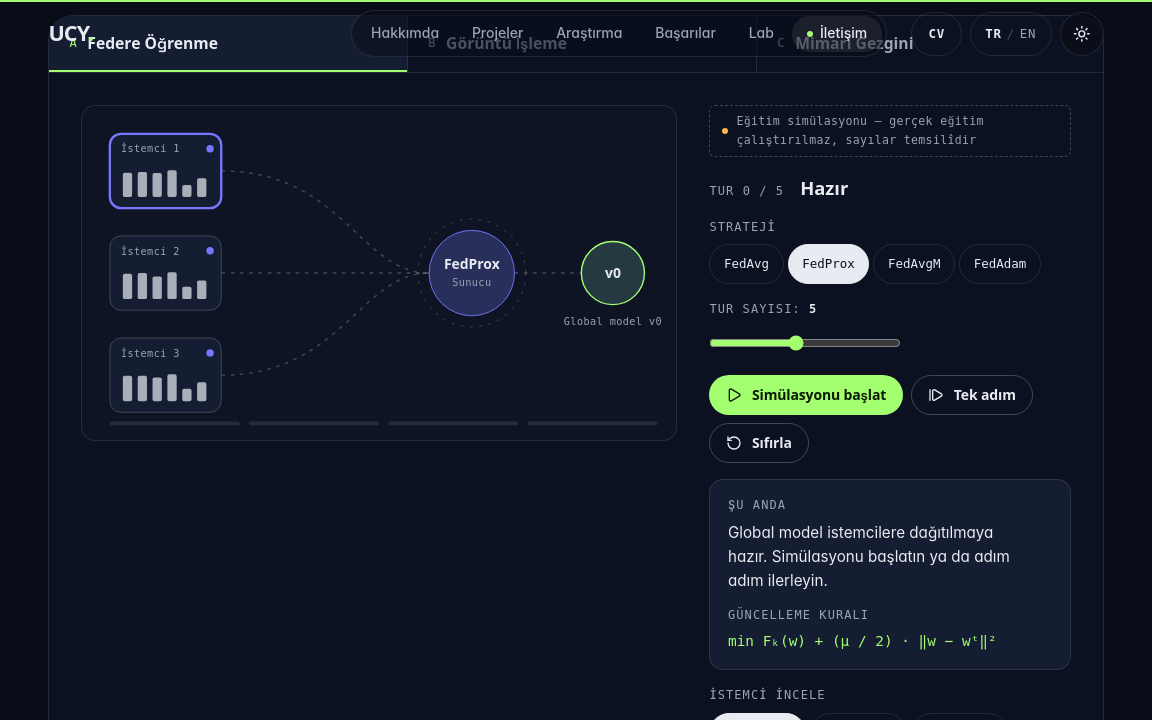
it: home page › runs the federated-learning demo one phase per step
The image size is (1152, 720).
(page scrolled)
Click the button with test id "fl-step".
click(972, 395)  # box [911,375,1033,415]
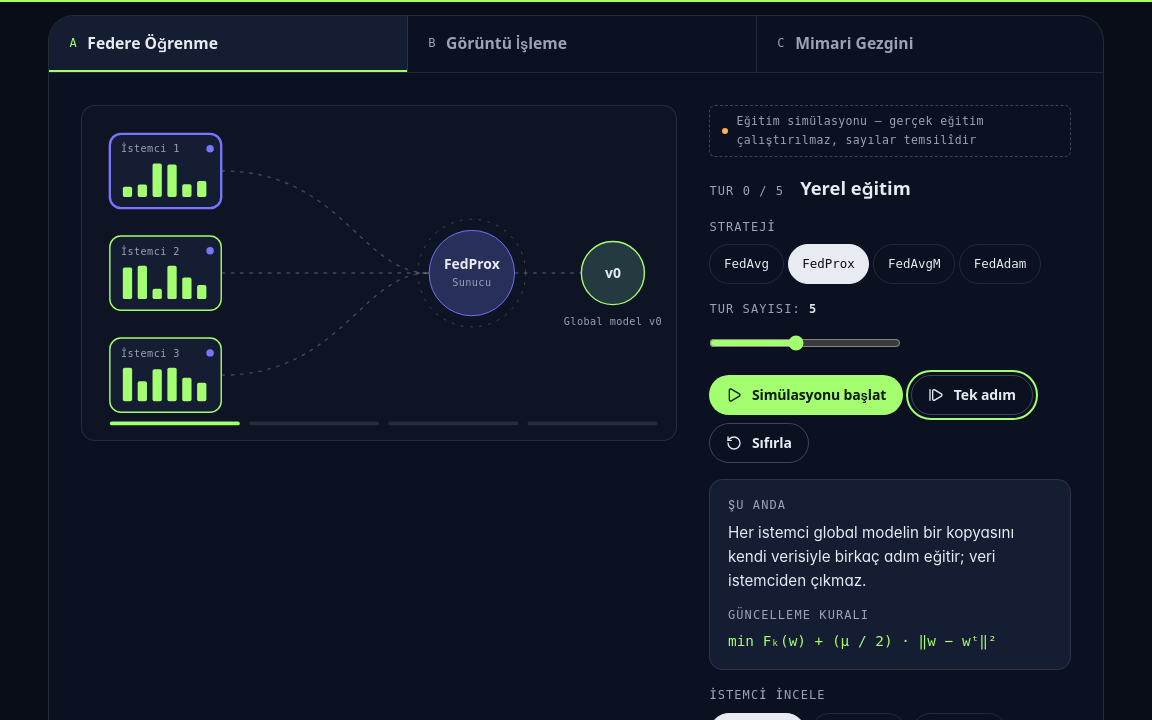
Check: the text "Yerel eğitim" is shown, box [800,173,911,202]
Click the button with test id "fl-step".
click(972, 395)  # box [911,375,1033,415]
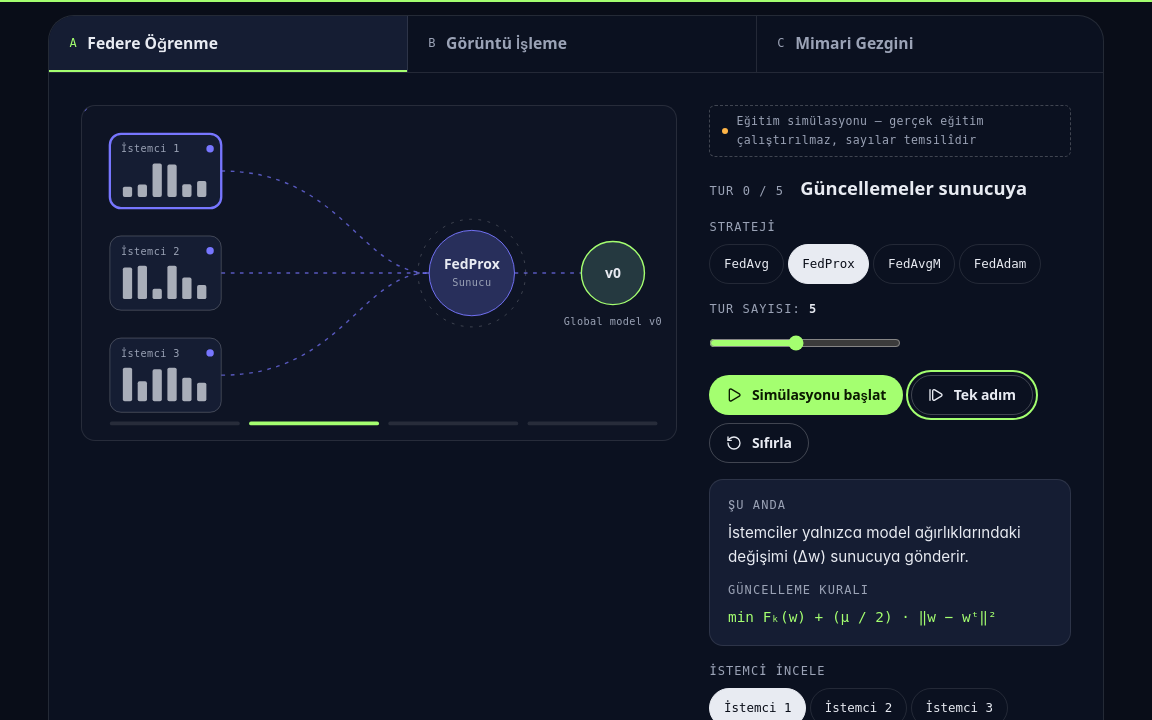
Check: the text "Güncellemeler sunucuya" is shown, box [800,173,1027,202]
